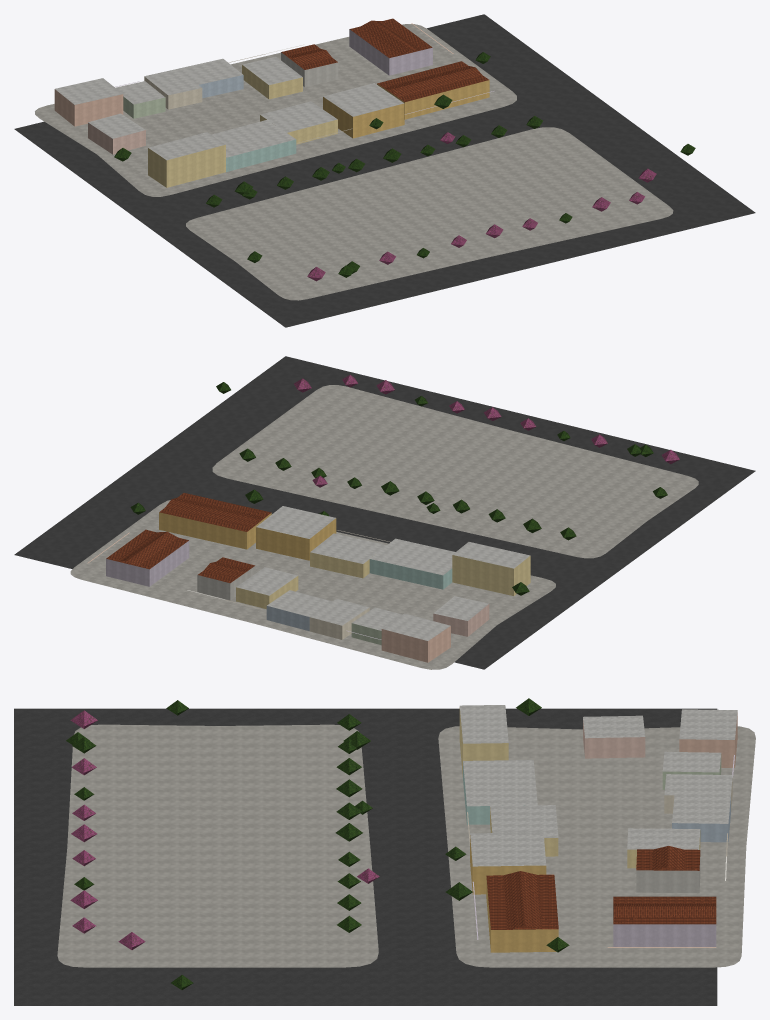
The model's file is cidade_S03_01_lod.gltf.
3 renders of one model, top to bottom at view 1: azimuth 30°, elevation 25°; view 2: azimuth 150°, elevation 25°; view 3: azimuth 270°, elevation 25°, orthographic. The views are drawn at different scales.
Parts seen in each view (by area): view 1: S03_01_Chao_LOD2, S03_01_Edificios_LOD1, S03_01_Silhueta_LOD2, S03_01_Vegetacao_LOD2; view 2: S03_01_Chao_LOD2, S03_01_Edificios_LOD1, S03_01_Silhueta_LOD2, S03_01_Vegetacao_LOD2; view 3: S03_01_Chao_LOD2, S03_01_Edificios_LOD1, S03_01_Silhueta_LOD2, S03_01_Vegetacao_LOD2.
Boxes of the visible parts, box(x1,y1,x2,y2) form: S03_01_Chao_LOD2: box(14, 14, 755, 327); S03_01_Edificios_LOD1: box(54, 20, 494, 187); S03_01_Silhueta_LOD2: box(281, 18, 489, 118); S03_01_Vegetacao_LOD2: box(114, 52, 695, 281); S03_01_Chao_LOD2: box(14, 356, 755, 669); S03_01_Edificios_LOD1: box(87, 497, 530, 662); S03_01_Silhueta_LOD2: box(106, 493, 271, 599); S03_01_Vegetacao_LOD2: box(130, 375, 679, 595); S03_01_Chao_LOD2: box(14, 708, 755, 1005); S03_01_Edificios_LOD1: box(459, 705, 737, 952); S03_01_Silhueta_LOD2: box(486, 849, 716, 952); S03_01_Vegetacao_LOD2: box(66, 698, 569, 989).
Size of the model in its own units: 101 by 5.77 by 106.
Materials: 18 (18 with a texture image).
